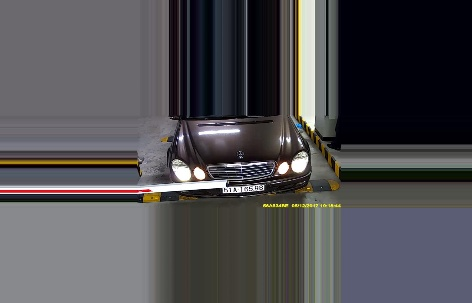plate: (221, 181, 266, 195)
